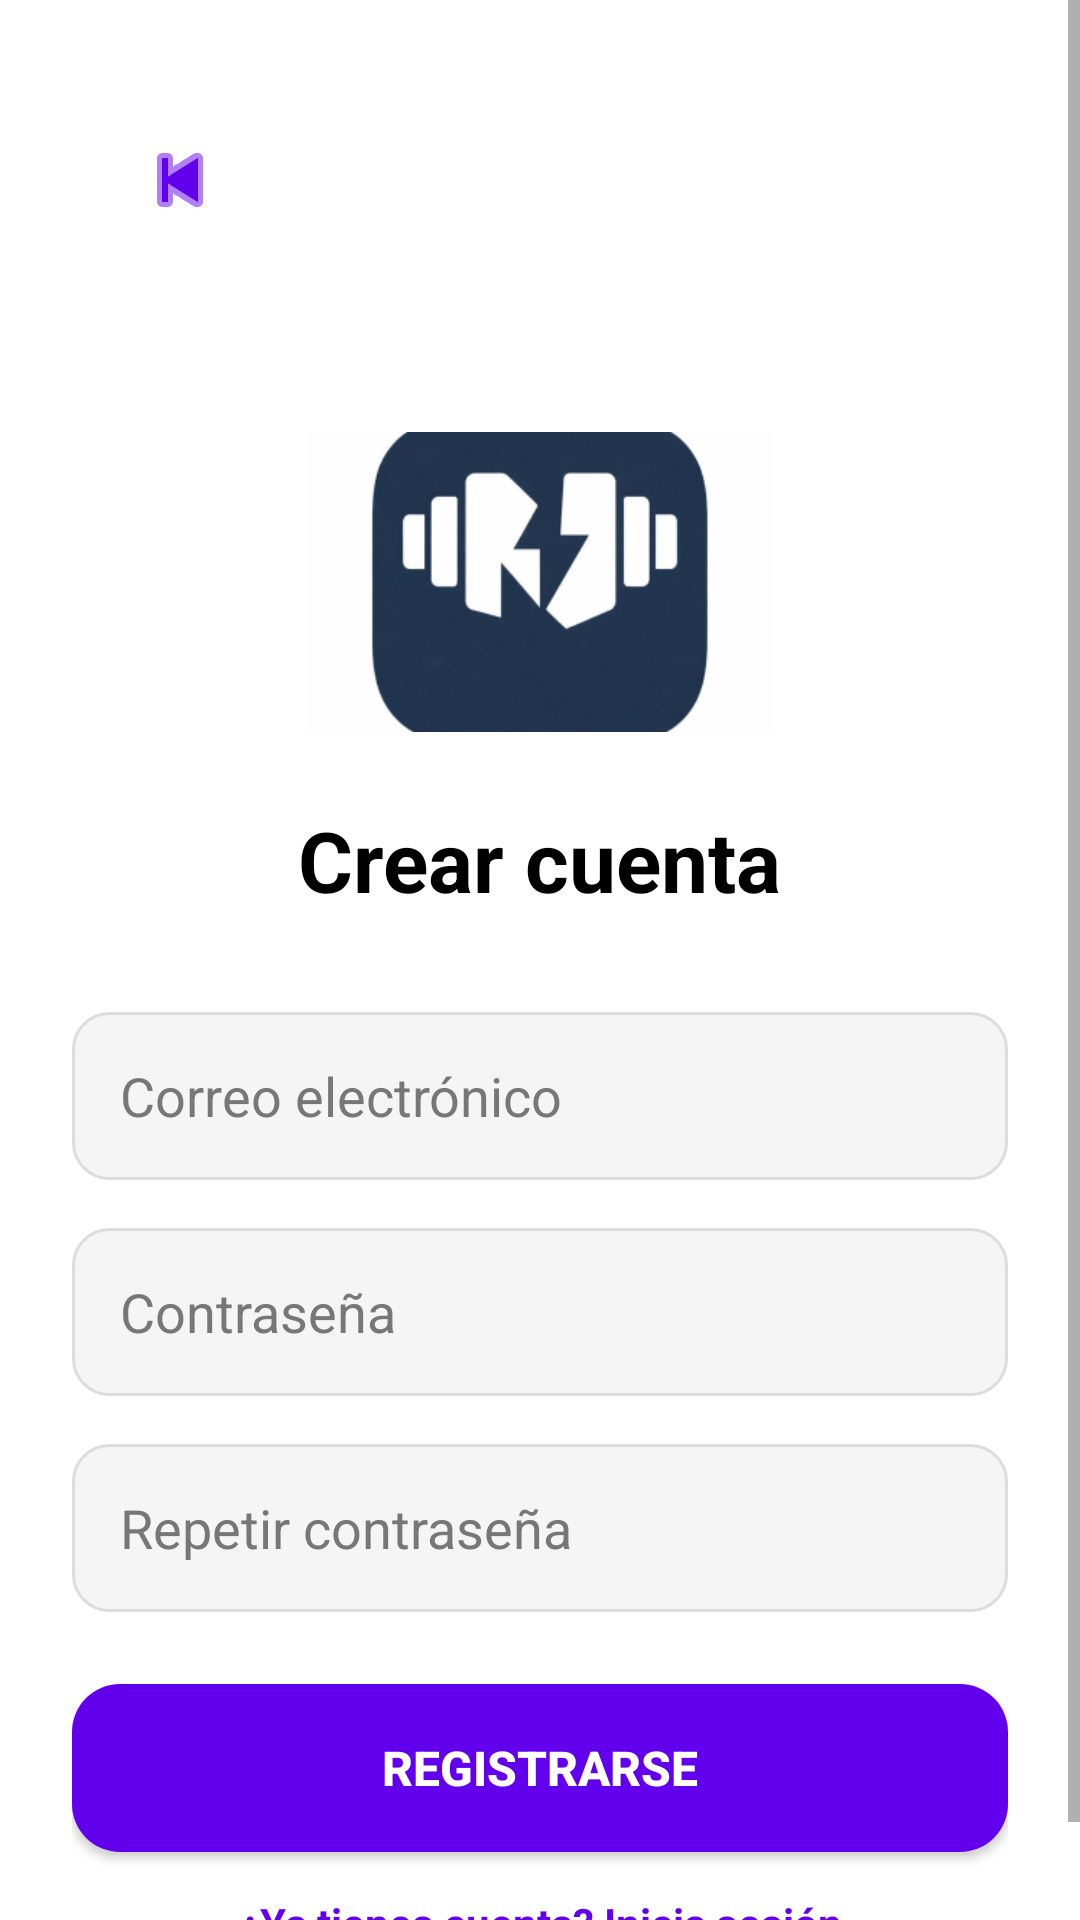

Where to tap for icons on this 1080 x 1920 app screen, as point (x, y):
Atrás: point (180, 180)
